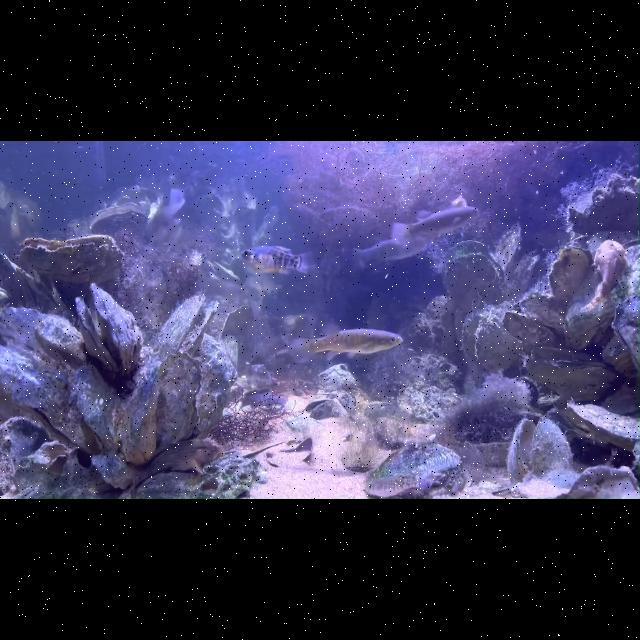Oyster-Closed: (0, 306, 78, 389), (366, 442, 465, 499), (114, 234, 171, 332), (560, 175, 640, 236), (528, 348, 616, 401), (116, 360, 160, 464), (73, 365, 124, 452), (154, 352, 202, 441), (201, 332, 239, 436), (568, 401, 640, 451), (561, 465, 640, 499), (315, 205, 379, 245), (398, 381, 460, 422)
Oyster-Open: (0, 346, 104, 456), (75, 284, 142, 375), (508, 418, 579, 499), (20, 235, 124, 284), (442, 240, 502, 312), (158, 294, 219, 361), (462, 305, 519, 371), (491, 222, 541, 292), (34, 314, 89, 366), (89, 202, 149, 234), (37, 441, 72, 482), (221, 305, 254, 336)
